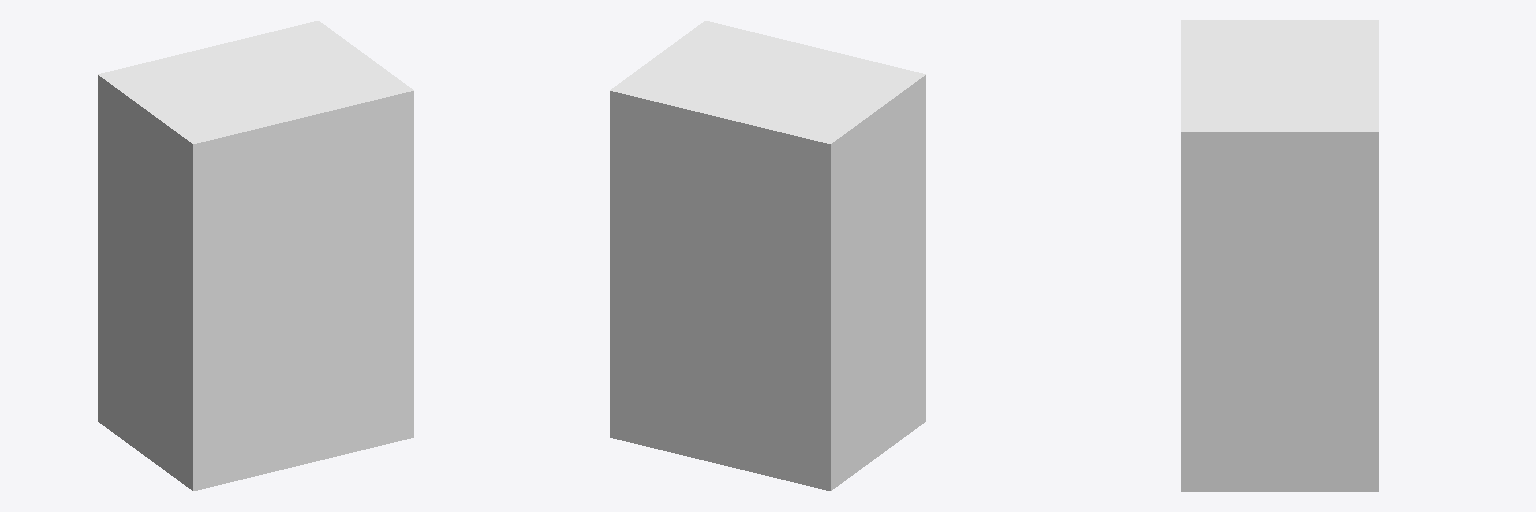
URDF robot description (fixed):
<?xml version="1.0"?>
<robot name="fixed">
  <!-- 农田地面 -->
  <link name="fixed">
    <visual>
      <material name="white">
        <color rgba="1 1 1 1"/> ->
      </material>
      <origin xyz="0 0 -0.1"/>
      <geometry>
        <box size="0.4 0.3 0.6"/>
      </geometry>
    </visual>
    <collision>
      <origin xyz="0 0 -0.1"/>
      <geometry>
        <box size="0.4 0.3 0.6"/>
      </geometry>
    </collision>
     <inertial>
      <mass value="100.0"/>
      <inertia ixx="0.1" ixy="0.0" ixz="0.0" iyy="0.1" iyz="0.0" izz="0.1"/>
    </inertial>
  </link>
</robot>

--- Render facts (derived) ---
3 views of the same robot in one strip: view 1: azimuth 30°, elevation 25°; view 2: azimuth 150°, elevation 25°; view 3: azimuth 270°, elevation 25° (orthographic).
Model fixed with 1 links and 0 joints (none), rooted at fixed, posed all joints at 0.
Visible links, largest first — view 1: fixed; view 2: fixed; view 3: fixed.
Link boxes in pixels (box(x1,y1,x2,y2)): fixed: box(98, 21, 413, 490); fixed: box(610, 21, 925, 490); fixed: box(1181, 20, 1378, 491).
Bounding box of the posed robot: 0.4 × 0.3 × 0.6 m (x, y, z).
Geometry: primitives only (box / cylinder / sphere), no mesh files.